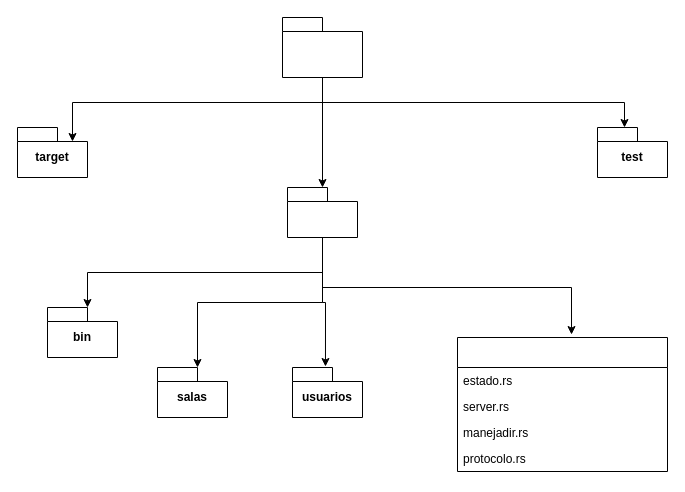
Image size: 685x492. Some labels were removed from this diagram. The shapes that lost their labels are listed below. From the top down, each one's box as (x1, y1, x2, y2) in pixels, then its label:
(282, 16, 362, 78): rust_server
(286, 186, 358, 238): src
(456, 336, 668, 472): Archivos que estan en el mismo nivel que estos directorios
